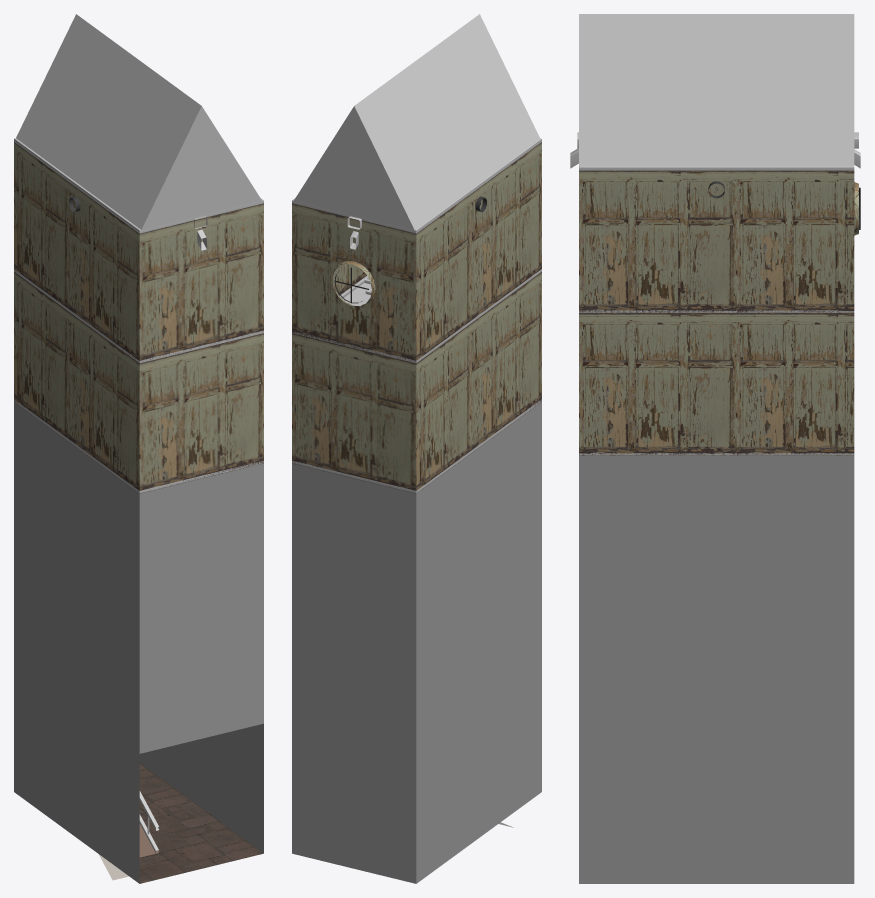
Rendered from BellTower.fbx.
The picture shows the model from 3 angles, left to right: view 1: azimuth 30°, elevation 25°; view 2: azimuth 150°, elevation 25°; view 3: azimuth 270°, elevation 25°; orthographic projection. The views are drawn at different scales.
Parts seen in each view (by area): view 1: pasted__pasted__pasted__pasted__pPlane5, pasted__pasted__pasted__pPlane1, pasted__pasted__pasted__pasted__pasted__pPlane5, pasted__pasted__pasted__pasted__pasted__pasted__pPlane4, pasted__pPlane8, pasted__pasted__pasted__pPlane18, pasted__pasted__pPlane19, pasted__pPlane1, pasted__pasted__pasted__pasted__pPlane4, pasted__pasted__pasted__pPlane8, pasted__pasted__pasted__pasted__pasted__pPlane3, pasted__pasted__pPlane18 (+13 smaller); view 2: pPlane1, pasted__pasted__pPlane20, pasted__pPlane16, pasted__pasted__pasted__pPlane21, pasted__polySurface13, pasted__pPlane8, pasted__pPlane1, pasted__pasted__pPlane19, pasted__pasted__pasted__pPlane18, pasted__pasted__pasted__pasted__pPlane4, pasted__pasted__pasted__pPlane8, pasted__pasted__pasted__pasted__pasted__pPlane3 (+9 smaller); view 3: pasted__pasted__pPlane8, pasted__pasted__pasted__pPlane19, pasted__pasted__pasted__pasted__pasted__pasted__pPlane2, pasted__pasted__pPlane1, pasted__pasted__pasted__pasted__pPlane2, pasted__pasted__pasted__pasted__pasted__pPlane4, pasted__pasted__pPlane17, pasted__pasted__pasted__pasted__pPlane1, pasted__pasted__pasted__pasted__pasted__pasted__pasted__pPla, pasted__pasted__pasted__pPlane17, pasted__pasted__pasted__pasted__pasted__pPlane1, pasted__pasted__pasted__pasted__pasted__pasted__pPlane3 (+3 smaller).
Part boxes in pixels (x1,y1,x2,y2): pasted__pasted__pasted__pasted__pPlane5: (139, 463, 263, 623); pasted__pasted__pasted__pPlane1: (139, 593, 263, 753); pasted__pasted__pasted__pasted__pasted__pPlane5: (139, 333, 263, 493); pasted__pasted__pasted__pasted__pasted__pasted__pPlane4: (139, 203, 263, 363); pasted__pPlane8: (15, 14, 147, 193); pasted__pasted__pasted__pPlane18: (68, 441, 139, 623); pasted__pasted__pPlane19: (68, 571, 139, 753); pasted__pPlane1: (68, 702, 139, 883); pasted__pasted__pasted__pasted__pPlane4: (68, 311, 139, 492); pasted__pasted__pasted__pPlane8: (86, 67, 201, 233); pasted__pasted__pasted__pasted__pasted__pPlane3: (68, 181, 139, 363); pasted__pasted__pPlane18: (14, 662, 67, 831); pPlane1: (292, 723, 416, 883); pasted__pasted__pPlane20: (292, 463, 416, 623); pasted__pPlane16: (292, 593, 416, 753); pasted__pasted__pasted__pPlane21: (292, 333, 416, 493); pasted__polySurface13: (292, 203, 416, 363); pasted__pPlane8: (354, 53, 487, 233); pasted__pPlane1: (470, 662, 541, 843); pasted__pasted__pPlane19: (470, 532, 541, 713); pasted__pasted__pasted__pPlane18: (470, 402, 541, 583); pasted__pasted__pasted__pasted__pPlane4: (470, 272, 541, 453); pasted__pasted__pasted__pPlane8: (426, 14, 540, 180); pasted__pasted__pasted__pasted__pasted__pPlane3: (470, 142, 541, 323); pasted__pasted__pPlane8: (697, 14, 854, 166); pasted__pasted__pasted__pPlane19: (579, 598, 736, 741); pasted__pasted__pasted__pasted__pasted__pasted__pPlane2: (579, 170, 736, 313); pasted__pasted__pPlane1: (579, 741, 736, 883); pasted__pasted__pasted__pasted__pPlane2: (579, 456, 736, 598); pasted__pasted__pasted__pasted__pasted__pPlane4: (579, 313, 736, 455); pasted__pasted__pPlane17: (579, 14, 696, 166); pasted__pasted__pasted__pasted__pPlane1: (736, 598, 854, 741); pasted__pasted__pasted__pasted__pasted__pasted__pasted__pPla: (736, 170, 854, 313); pasted__pasted__pasted__pPlane17: (736, 741, 854, 883); pasted__pasted__pasted__pasted__pasted__pPlane1: (736, 456, 854, 598); pasted__pasted__pasted__pasted__pasted__pasted__pPlane3: (736, 313, 854, 455).
Size of the model in its own units: 428 by 2396 by 739.
